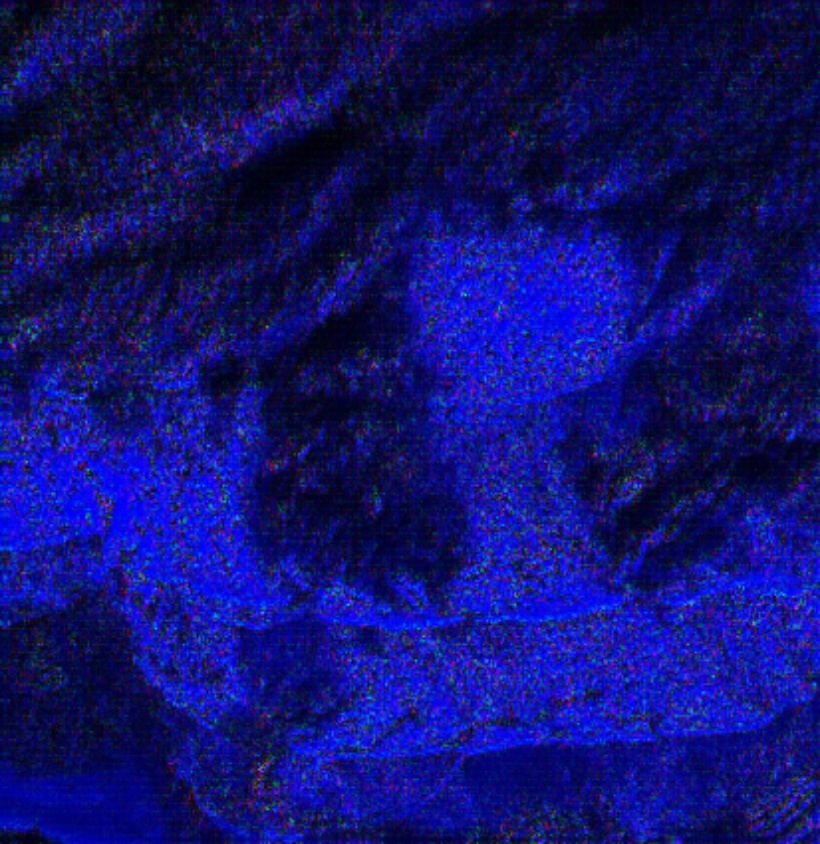rip_current: (200, 159, 476, 635)
